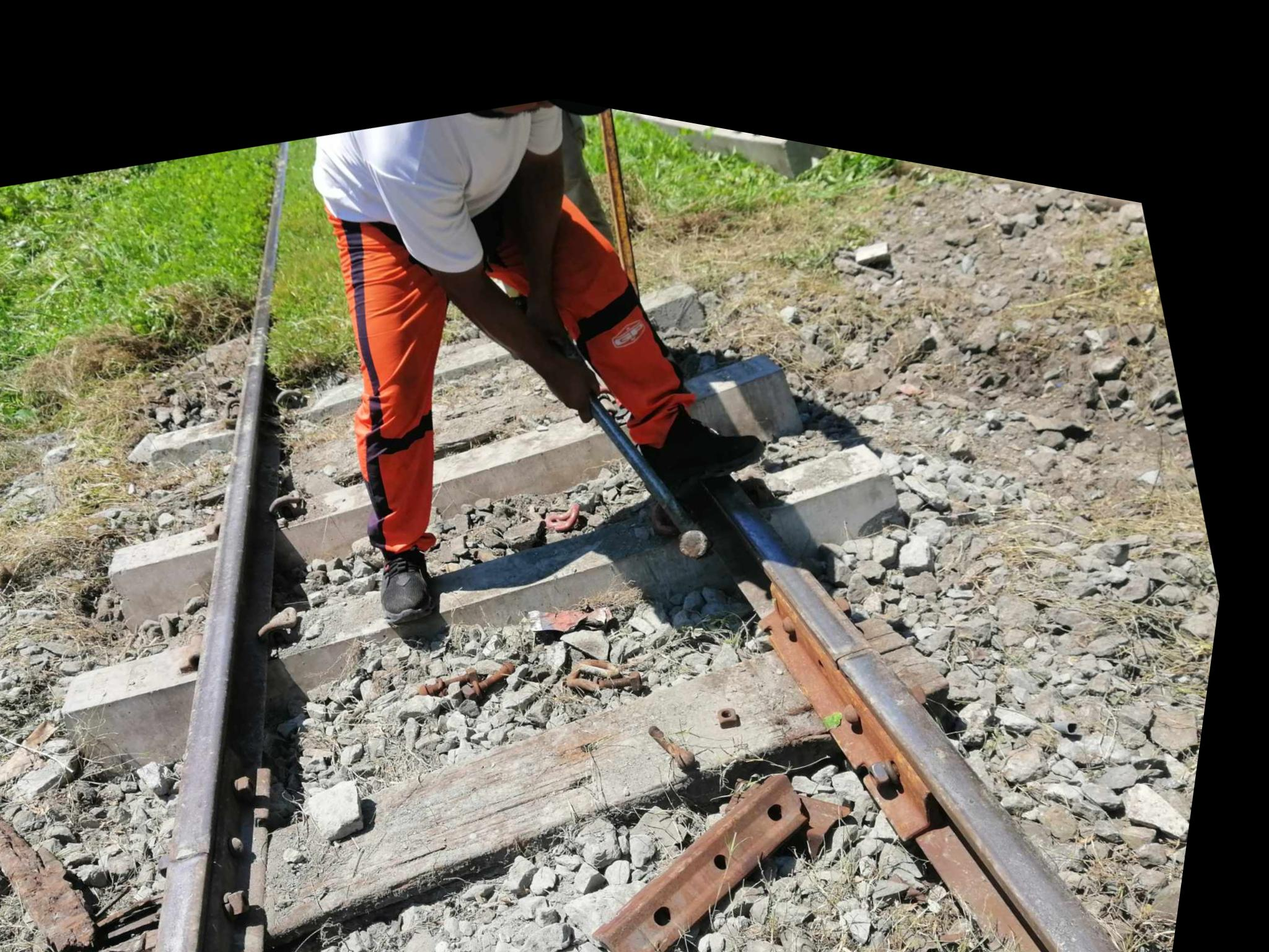person: (794, 550, 942, 694), (147, 787, 264, 905)
